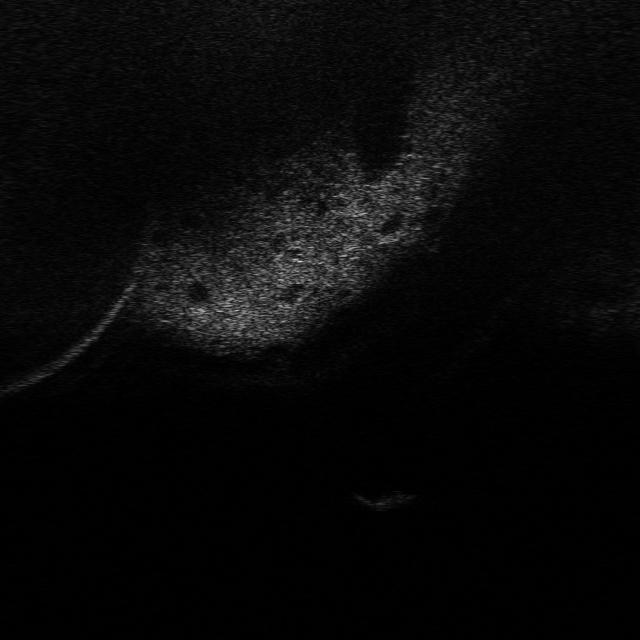cube: (348, 488, 416, 513)
